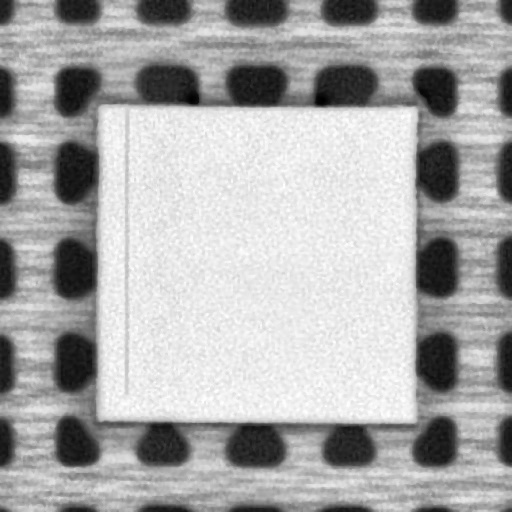DIE_CRACK: (114, 110, 134, 394)
